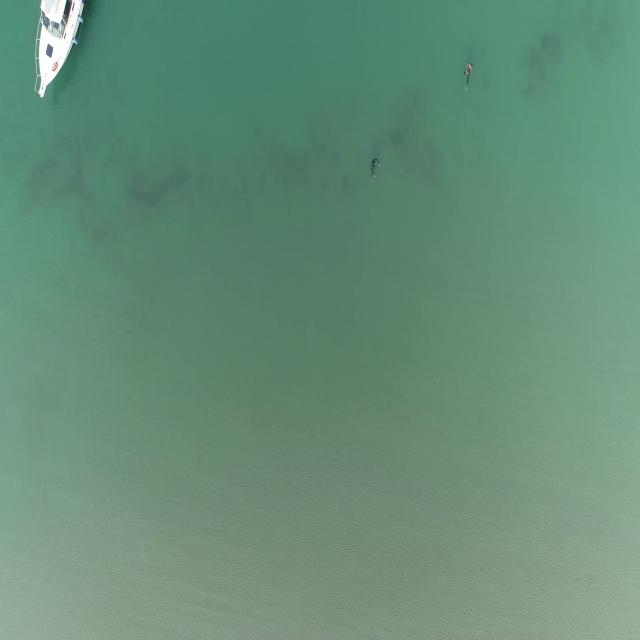boat: (29, 0, 88, 101)
person: (369, 157, 383, 179), (464, 61, 475, 89)
